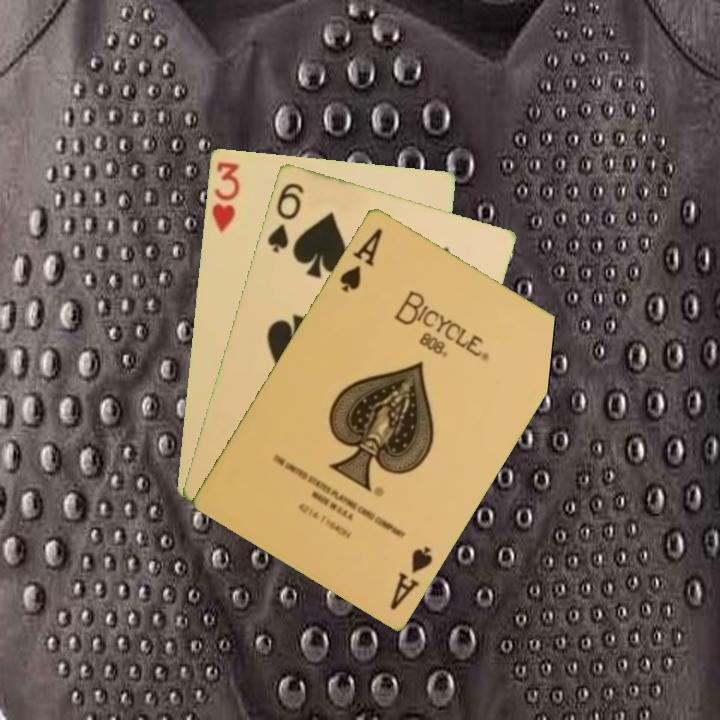3h: (208, 158, 242, 235)
6s: (263, 178, 307, 255)
As: (336, 224, 386, 295), (386, 542, 435, 613)
